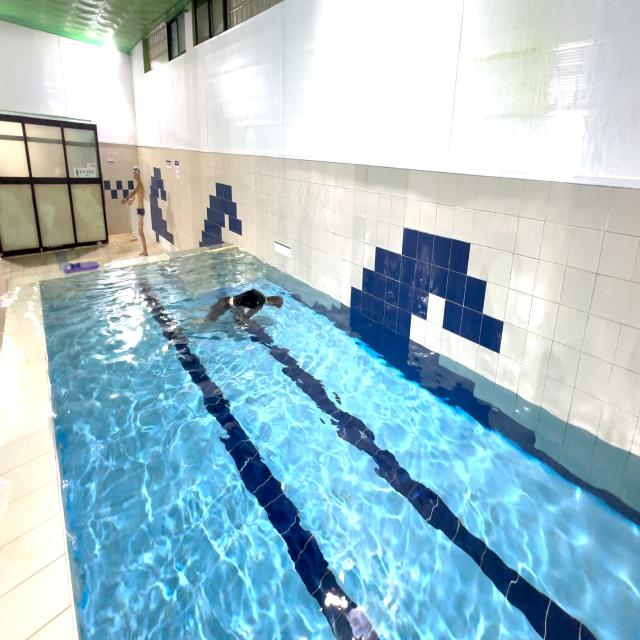Drowning: (182, 284, 290, 331)
